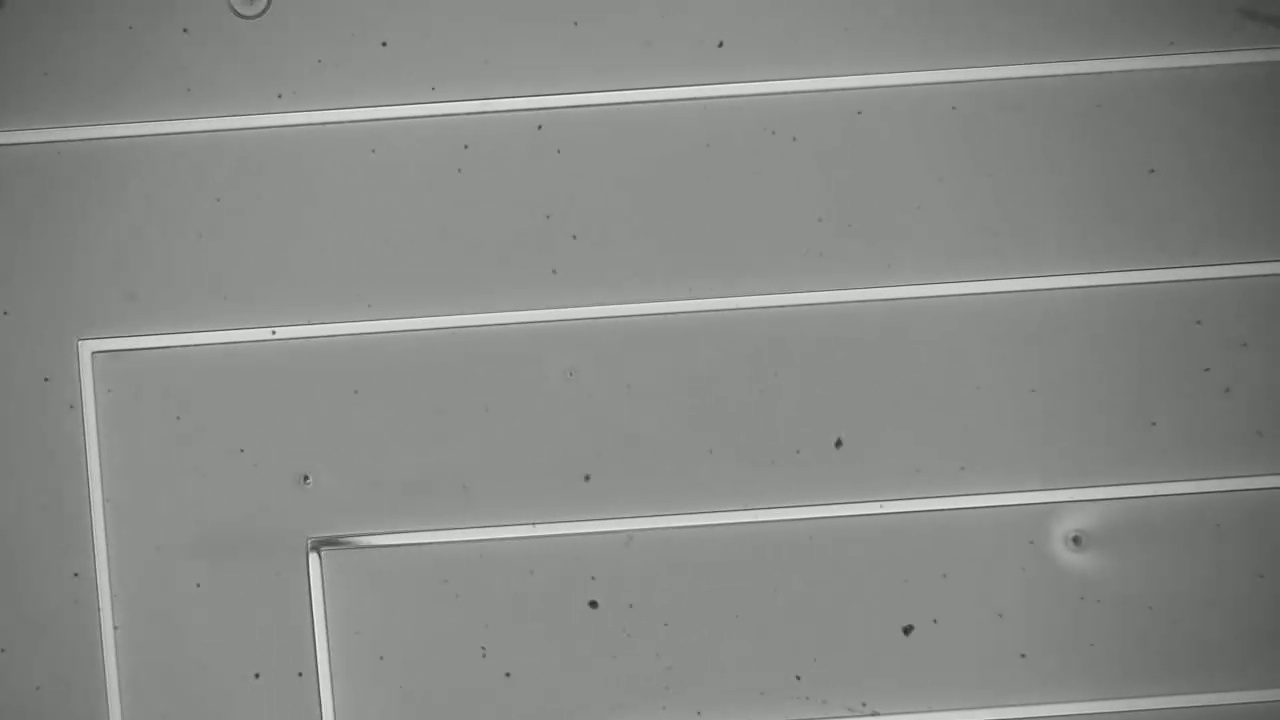gray_line: (294, 522, 390, 561)
